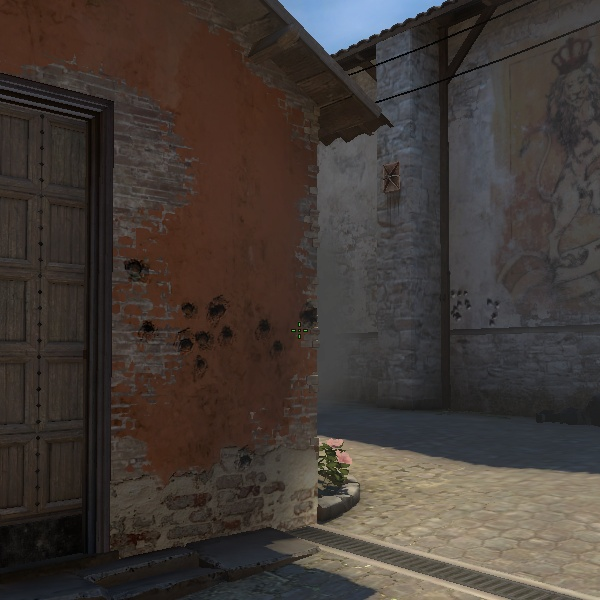ct_body: (314, 439, 354, 492)
